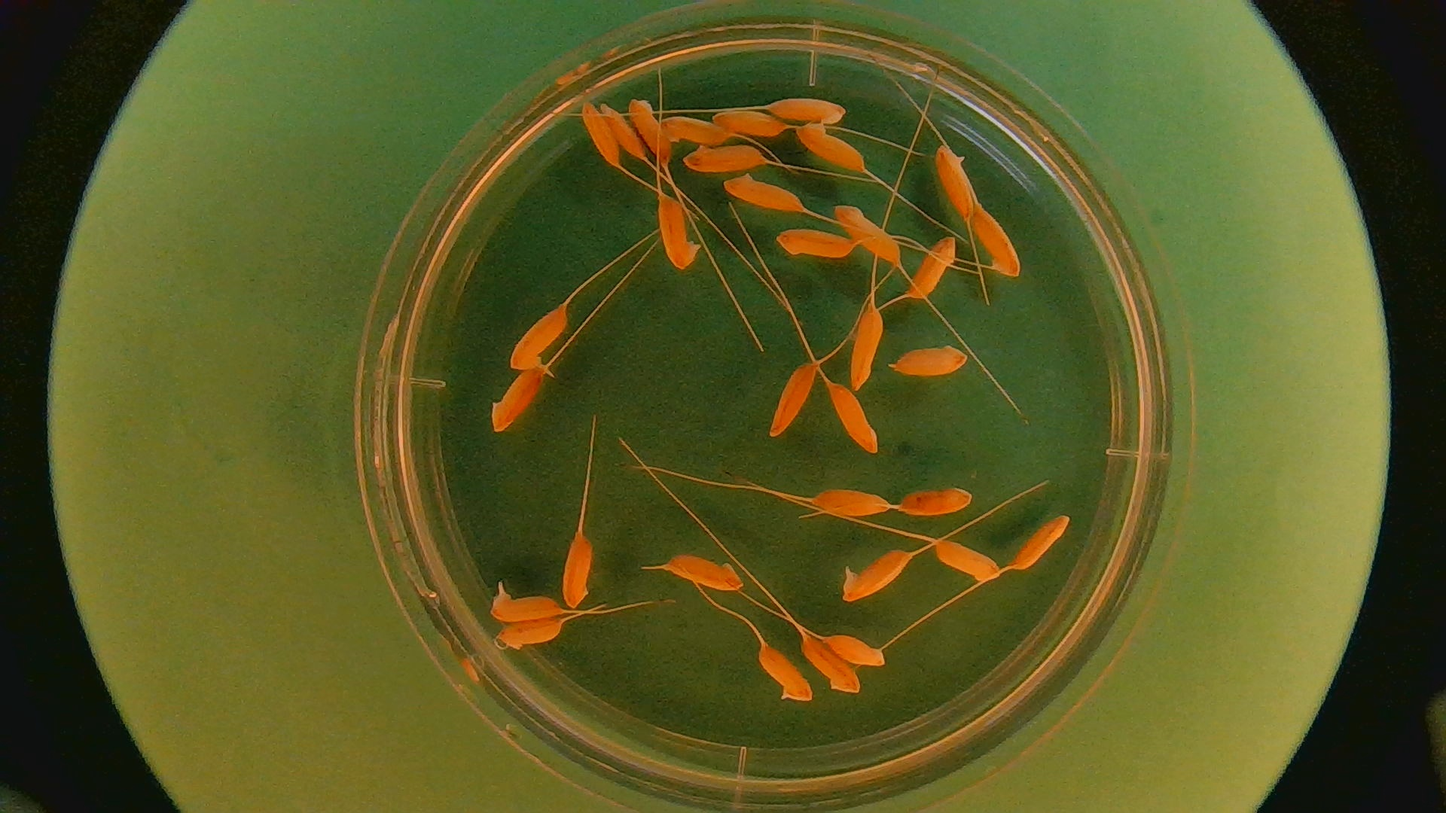no: (791, 120, 880, 181), (480, 367, 547, 443), (823, 379, 881, 462), (832, 200, 904, 263), (721, 166, 805, 216), (775, 219, 857, 267), (767, 360, 816, 440), (804, 480, 898, 521), (972, 201, 1022, 276), (595, 98, 650, 166), (894, 480, 975, 524), (755, 643, 813, 704), (648, 108, 736, 148), (848, 306, 886, 397), (1014, 510, 1072, 569), (797, 634, 859, 688), (762, 90, 856, 125), (658, 193, 700, 271), (931, 147, 975, 220), (624, 91, 669, 160), (932, 540, 1001, 585), (679, 142, 772, 174), (668, 550, 743, 589), (821, 623, 886, 668), (491, 617, 571, 652), (910, 238, 953, 303), (561, 534, 597, 610), (578, 101, 621, 163), (888, 343, 966, 375), (709, 108, 786, 137)
yes: (510, 300, 571, 368), (838, 552, 907, 607), (487, 580, 566, 625)
